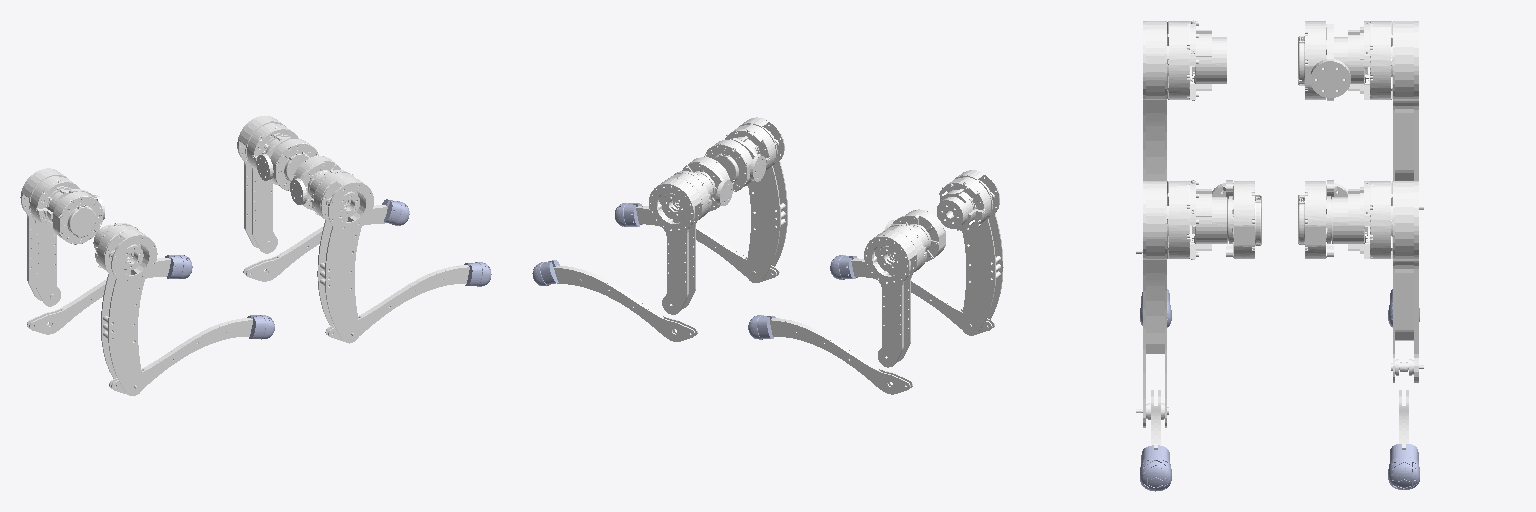
The robot description file, URDF, robot "RCV8":
<?xml version="1.0" encoding="utf-8"?>
<!-- This URDF was automatically created by SolidWorks to URDF Exporter! Originally created by Stephen Brawner (brawner@gmail.com) 
     Commit Version: 1.6.0-4-g7f85cfe  Build Version: 1.6.7995.38578
     For more information, please see http://wiki.ros.org/sw_urdf_exporter -->
<robot
  name="RCV8">
    <mujoco>
    <compiler 
      meshdir="../meshes" 
      balanceinertia="true" 
      discardvisual="false" />
  </mujoco>
  <link
    name="base_link">
    <inertial>
      <origin
        xyz="0.0080583 0.0005398 0.0606645"
        rpy="0 0 0" />
      <mass
        value="6" />
      <inertia
        ixx="0.0352207"
        ixy="-0.0007207"
        ixz="-0.0019191"
        iyy="0.0728560"
        iyz="0.0000191"
        izz="0.0856750" />
    </inertial>
    <visual>
      <origin
        xyz="0 0 0"
        rpy="0 0 0" />
      <geometry>
        <mesh
          filename="..//meshes/base_link.STL" />
      </geometry>
      <material
        name="">
        <color
          rgba="1 1 1 1" />
      </material>
    </visual>
    <collision>
      <origin
        xyz="0 0 0.04290"
        rpy="0 0 0" />
      <geometry>
        <box
          size="0.34 0.20000 0.15980" />
      </geometry>
    </collision>
    
  </link>
  <link
    name="FL">
    <inertial>
      <origin
        xyz="-0.0117255 -0.0121303 -0.0000462"
        rpy="0 0 0" />
      <mass
        value="0.75" />
      <inertia
        ixx="0.0001882"
        ixy="0.0000377"
        ixz="0.0000005"
        iyy="0.0003670"
        iyz="-0.0000002"
        izz="0.0002544" />
    </inertial>
    <visual>
      <origin
        xyz="0 0 0"
        rpy="0 0 0" />
      <geometry>
        <mesh
          filename="..//meshes/FL.STL" />
      </geometry>
      <material
        name="">
        <color
          rgba="1 1 1 1" />
      </material>
    </visual>
  </link>
  <joint
    name="FL_hip_joint"
    type="revolute">
    <origin
      xyz="0.23285 0.0625 0.05425"
      rpy="0 0 0" />
    <parent
      link="base_link" />
    <child
      link="FL" />
    <axis
      xyz="1 0 0" />
    <limit
      lower="-1.05"
      upper="1.05"
      effort="18.0"
      velocity="30" />
  </joint>
  <link
    name="FL_thigh">
    <inertial>
      <origin
        xyz="-0.0009008 -0.0236371 -0.0344781"
        rpy="0 0 0" />
      <mass
        value="0.85" />
      <inertia
        ixx="0.0050481"
        ixy="0.0000052"
        ixz="-0.0003188"
        iyy="0.0048560"
        iyz="0.0007267"
        izz="0.0010600" />
    </inertial>
    <visual>
      <origin
        xyz="0 0 0"
        rpy="0 0 0" />
      <geometry>
        <mesh
          filename="..//meshes/FL_thigh.STL" />
      </geometry>
      <material
        name="">
        <color
          rgba="1 1 1 1" />
      </material>
    </visual>
    <collision>
      <origin
        xyz="-0.003 -0.008 -0.002"
        rpy="1.57079632679 0 0" />
      <geometry>
        <cylinder
          radius="0.0450"
          length="0.05" />
      </geometry>
    </collision>
    <collision>
      <origin
        xyz="-0.0220 0 -0.1400"
        rpy="0 0 0" />
      <geometry>
        <cylinder
          radius="0.0205"
          length="0.1620" />
      </geometry>
    </collision>
  </link>
  <joint
    name="FL_thigh_joint"
    type="revolute">
    <origin
      xyz="0 0.0904 0"
      rpy="0 0 0" />
    <parent
      link="FL" />
    <child
      link="FL_thigh" />
    <axis
      xyz="0 1 0" />
    <limit
      lower="-1.57"
      upper="3.49"
      effort="18.0"
      velocity="30" />
  </joint>
  <link
    name="FL_calf">
    <inertial>
      <origin
        xyz="0.0038942 0.0007975 -0.1721584"
        rpy="0 0 0" />
      <mass
        value="0.1" />
      <inertia
        ixx="0.0017683"
        ixy="0.0000017"
        ixz="-0.0000664"
        iyy="0.0017957"
        iyz="0.0000138"
        izz="0.0000409" />
    </inertial>
    <visual>
      <origin
        xyz="0 0 0"
        rpy="0 0 0" />
      <geometry>
        <mesh
          filename="..//meshes/FL_calf.STL" />
      </geometry>
      <material
        name="">
        <color
          rgba="1 1 1 1" />
      </material>
    </visual>
    <collision>
      <origin
        xyz="0.0155 0 -0.1250"
        rpy="0 0 0" />
      <geometry>
        <cylinder
          radius="0.0125"
          length="0.2500" />
      </geometry>
    </collision>
  </link>
  <joint
    name="FL_calf_joint"
    type="revolute">
    <origin
      xyz="0 0 -0.26"
      rpy="0 0 0" />
    <parent
      link="FL_thigh" />
    <child
      link="FL_calf" />
    <axis
      xyz="0 1 0" />
    <limit
      lower="-2.72"
      upper="-0.84"
      effort="18.0"
      velocity="30" />
  </joint>
  <link
    name="FL_foot">
    <inertial>
      <origin
        xyz="0.0048384 0.0002654 0.010366"
        rpy="0 0 0" />
      <mass
        value="0.05" />
      <inertia
        ixx="0.0000122"
        ixy="0.0000000"
        ixz="-0.0000006"
        iyy="0.0000137"
        iyz="-0.0000001"
        izz="0.0000112" />
    </inertial>
    <visual>
      <origin
        xyz="0 0 0"
        rpy="0 0 0" />
      <geometry>
        <mesh
          filename="..//meshes/FL_foot.STL" />
      </geometry>
      <material
        name="">
        <color
          rgba="0.79216 0.81961 0.93333 1" />
      </material>
    </visual>
    <collision>
      <origin
        xyz="0.0043 0.0002 0.0050"
        rpy="0 0 0" />
      <geometry>
        <sphere
          radius="0.0202" />
      </geometry>
    </collision>
    <collision>
      <origin
        xyz="0.0205 0.0002 0.035"
        rpy="0 0 0" />
      <geometry>
        <box
          size="0.027 0.020 0.015" />
      </geometry>
    </collision>
  </link>
  <joint
    name="FL_foot_joint"
    type="fixed"
    dont_collapse="true">
    <origin
      xyz="-0.014048 0 -0.29437"
      rpy="0 0 0" />
    <parent
      link="FL_calf" />
    <child
      link="FL_foot" />
    <axis
      xyz="0 0 0" />
  </joint>
  <link
    name="FR">
    <inertial>
      <origin
        xyz="-0.0117255 0.0121303 0.0000462"
        rpy="0 0 0" />
      <mass
        value="0.75" />
      <inertia
        ixx="0.0001882"
        ixy="-0.0000377"
        ixz="-0.0000005"
        iyy="0.0003670"
        iyz="-0.0000002"
        izz="0.0002544" />
    </inertial>
    <visual>
      <origin
        xyz="0 0 0"
        rpy="0 0 0" />
      <geometry>
        <mesh
          filename="..//meshes/FR.STL" />
      </geometry>
      <material
        name="">
        <color
          rgba="1 1 1 1" />
      </material>
    </visual>
  </link>
  <joint
    name="FR_hip_joint"
    type="revolute">
    <origin
      xyz="0.23285 -0.0625 0.05425"
      rpy="0 0 0" />
    <parent
      link="base_link" />
    <child
      link="FR" />
    <axis
      xyz="1 0 0" />
    <limit
      lower="-1.05"
      upper="1.05"
      effort="18.0"
      velocity="30" />
  </joint>
  <link
    name="FR_thigh">
    <inertial>
      <origin
        xyz="-0.0009016 0.0236316 -0.0344912"
        rpy="0 0 0" />
      <mass
        value="0.85" />
      <inertia
        ixx="0.0050487"
        ixy="-0.0000052"
        ixz="-0.0003188"
        iyy="0.0048566"
        iyz="-0.0007267"
        izz="0.0010601" />
    </inertial>
    <visual>
      <origin
        xyz="0 0 0"
        rpy="0 0 0" />
      <geometry>
        <mesh
          filename="..//meshes/FR_thigh.STL" />
      </geometry>
      <material
        name="">
        <color
          rgba="1 1 1 1" />
      </material>
    </visual>
    <collision>
      <origin
        xyz="-0.003 0.008 -0.002"
        rpy="1.57079632679 0 0" />
      <geometry>
        <cylinder
          radius="0.0450"
          length="0.05" />
      </geometry>
    </collision>
    <collision>
      <origin
        xyz="-0.0220 0 -0.1400"
        rpy="0 0 0" />
      <geometry>
        <cylinder
          radius="0.0205"
          length="0.1620" />
      </geometry>
    </collision>
  </link>
  <joint
    name="FR_thigh_joint"
    type="revolute">
    <origin
      xyz="0 -0.0904 0"
      rpy="0 0 0" />
    <parent
      link="FR" />
    <child
      link="FR_thigh" />
    <axis
      xyz="0 1 0" />
    <limit
      lower="-1.57"
      upper="3.49"
      effort="18.0"
      velocity="30" />
  </joint>
  <link
    name="FR_calf">
    <inertial>
      <origin
        xyz="0.0038942 0.0007975 -0.1721584"
        rpy="0 0 0" />
      <mass
        value="0.1" />
      <inertia
        ixx="0.0017683"
        ixy="0.0000017"
        ixz="-0.0000664"
        iyy="0.0017957"
        iyz="0.0000138"
        izz="0.0000409" />
    </inertial>
    <visual>
      <origin
        xyz="0 0 0"
        rpy="0 0 0" />
      <geometry>
        <mesh
          filename="..//meshes/FR_calf.STL" />
      </geometry>
      <material
        name="">
        <color
          rgba="1 1 1 1" />
      </material>
    </visual>
    <collision>
      <origin
        xyz="0.0155 0 -0.1250"
        rpy="0 0 0" />
      <geometry>
        <cylinder
          radius="0.0125"
          length="0.2500" />
      </geometry>
    </collision>
  </link>
  <joint
    name="FR_calf_joint"
    type="revolute">
    <origin
      xyz="0 0 -0.26"
      rpy="0 0 0" />
    <parent
      link="FR_thigh" />
    <child
      link="FR_calf" />
    <axis
      xyz="0 1 0" />
    <limit
      lower="-2.72"
      upper="-0.84"
      effort="18.0"
      velocity="30" />
  </joint>
  <link
    name="FR_foot">
    <inertial>
      <origin
        xyz="0.0048382 -0.0002654 0.010367"
        rpy="0 0 0" />
      <mass
        value="0.05" />
      <inertia
        ixx="0.0000122"
        ixy="0.0000000"
        ixz="-0.0000006"
        iyy="0.0000137"
        iyz="0.0000001"
        izz="0.0000112" />
    </inertial>
    <visual>
      <origin
        xyz="0 0 0"
        rpy="0 0 0" />
      <geometry>
        <mesh
          filename="..//meshes/FR_foot.STL" />
      </geometry>
      <material
        name="">
        <color
          rgba="0.79216 0.81961 0.93333 1" />
      </material>
    </visual>
    <collision>
      <origin
        xyz="0.0043 -0.0002 0.0050"
        rpy="0 0 0" />
      <geometry>
        <sphere
          radius="0.0202" />
      </geometry>
    </collision>
    <collision>
      <origin
        xyz="0.0205 -0.0002 0.035"
        rpy="0 0 0" />
      <geometry>
        <box
          size="0.027 0.020 0.015" />
      </geometry>
    </collision>
  </link>
  <joint
    name="FR_foot_joint"
    type="fixed"
    dont_collapse="true">
    <origin
      xyz="-0.014048 0 -0.29437"
      rpy="0 0 0" />
    <parent
      link="FR_calf" />
    <child
      link="FR_foot" />
    <axis
      xyz="0 0 0" />
  </joint>
  <link
    name="RL">
    <inertial>
      <origin
        xyz="0.0117255 -0.0121303 0.0000462"
        rpy="0 0 0" />
      <mass
        value="0.75" />
      <inertia
        ixx="0.0001882"
        ixy="-0.0000377"
        ixz="0.0000005"
        iyy="0.0003670"
        iyz="0.0000002"
        izz="0.0002544" />
    </inertial>
    <visual>
      <origin
        xyz="0 0 0"
        rpy="0 0 0" />
      <geometry>
        <mesh
          filename="..//meshes/RL.STL" />
      </geometry>
      <material
        name="">
        <color
          rgba="1 1 1 1" />
      </material>
    </visual>
  </link>
  <joint
    name="RL_hip_joint"
    type="revolute">
    <origin
      xyz="-0.23285 0.0625 0.05425"
      rpy="0 0 0" />
    <parent
      link="base_link" />
    <child
      link="RL" />
    <axis
      xyz="1 0 0" />
    <limit
      lower="-1.05"
      upper="1.05"
      effort="18.0"
      velocity="30" />
  </joint>
  <link
    name="RL_thigh">
    <inertial>
      <origin
        xyz="-0.0009008 -0.0236371 -0.0344781"
        rpy="0 0 0" />
      <mass
        value="0.85" />
      <inertia
        ixx="0.0050481"
        ixy="0.0000052"
        ixz="-0.0003188"
        iyy="0.0048560"
        iyz="0.0007267"
        izz="0.0010600" />
    </inertial>
    <visual>
      <origin
        xyz="0 0 0"
        rpy="0 0 0" />
      <geometry>
        <mesh
          filename="..//meshes/RL_thigh.STL" />
      </geometry>
      <material
        name="">
        <color
          rgba="1 1 1 1" />
      </material>
    </visual>
    <collision>
      <origin
        xyz="-0.003 -0.008 -0.002"
        rpy="1.57079632679 0 0" />
      <geometry>
        <cylinder
          radius="0.0450"
          length="0.05" />
      </geometry>
    </collision>
    <collision>
      <origin
        xyz="-0.0220 0 -0.1400"
        rpy="0 0 0" />
      <geometry>
        <cylinder
          radius="0.0205"
          length="0.1620" />
      </geometry>
    </collision>
  </link>
  <joint
    name="RL_thigh_joint"
    type="revolute">
    <origin
      xyz="0 0.0904 0"
      rpy="0 0 0" />
    <parent
      link="RL" />
    <child
      link="RL_thigh" />
    <axis
      xyz="0 1 0" />
    <limit
      lower="-0.52"
      upper="4.54"
      effort="18.0"
      velocity="30" />
  </joint>
  <link
    name="RL_calf">
    <inertial>
      <origin
        xyz="0.0038942 0.0007975 -0.1721584"
        rpy="0 0 0" />
      <mass
        value="0.1" />
      <inertia
        ixx="0.0017683"
        ixy="0.0000017"
        ixz="-0.0000664"
        iyy="0.0017957"
        iyz="0.0000138"
        izz="0.0000409" />
    </inertial>
    <visual>
      <origin
        xyz="0 0 0"
        rpy="0 0 0" />
      <geometry>
        <mesh
          filename="..//meshes/RL_calf.STL" />
      </geometry>
      <material
        name="">
        <color
          rgba="1 1 1 1" />
      </material>
    </visual>
    <collision>
      <origin
        xyz="0.0155 0 -0.1250"
        rpy="0 0 0" />
      <geometry>
        <cylinder
          radius="0.0125"
          length="0.2500" />
      </geometry>
    </collision>
  </link>
  <joint
    name="RL_calf_joint"
    type="revolute">
    <origin
      xyz="0 0 -0.26"
      rpy="0 0 0" />
    <parent
      link="RL_thigh" />
    <child
      link="RL_calf" />
    <axis
      xyz="0 1 0" />
    <limit
      lower="-2.72"
      upper="-0.84"
      effort="18.0"
      velocity="30" />
  </joint>
  <link
    name="RL_foot">
    <inertial>
      <origin
        xyz="0.0048384 0.0002654 0.010366"
        rpy="0 0 0" />
      <mass
        value="0.05" />
      <inertia
        ixx="0.0000122"
        ixy="0.0000000"
        ixz="-0.0000006"
        iyy="0.0000137"
        iyz="-0.0000001"
        izz="0.0000112" />
    </inertial>
    <visual>
      <origin
        xyz="0 0 0"
        rpy="0 0 0" />
      <geometry>
        <mesh
          filename="..//meshes/RL_foot.STL" />
      </geometry>
      <material
        name="">
        <color
          rgba="0.79216 0.81961 0.93333 1" />
      </material>
    </visual>
    <collision>
      <origin
        xyz="0.0043 0.0002 0.0050"
        rpy="0 0 0" />
      <geometry>
        <sphere
          radius="0.0206" />
      </geometry>
    </collision>
    <collision>
      <origin
        xyz="0.0205 0.0002 0.035"
        rpy="0 0 0" />
      <geometry>
        <box
          size="0.027 0.020 0.015" />
      </geometry>
    </collision>
  </link>
  <joint
    name="RL_foot_joint"
    type="fixed"
    dont_collapse="true">
    <origin
      xyz="-0.0140482260590471 0 -0.294374371435754"
      rpy="0 0 0" />
    <parent
      link="RL_calf" />
    <child
      link="RL_foot" />
    <axis
      xyz="0 0 0" />
  </joint>
  <link
    name="RR">
    <inertial>
      <origin
        xyz="0.0117255 0.0121303 -0.0000462"
        rpy="0 0 0" />
      <mass
        value="0.75" />
      <inertia
        ixx="0.0001882"
        ixy="0.0000377"
        ixz="-0.0000005"
        iyy="0.0003670"
        iyz="0.0000002"
        izz="0.0002544" />
    </inertial>
    <visual>
      <origin
        xyz="0 0 0"
        rpy="0 0 0" />
      <geometry>
        <mesh
          filename="..//meshes/RR.STL" />
      </geometry>
      <material
        name="">
        <color
          rgba="1 1 1 1" />
      </material>
    </visual>
  </link>
  <joint
    name="RR_hip_joint"
    type="revolute">
    <origin
      xyz="-0.23285 -0.0625 0.05425"
      rpy="0 0 0" />
    <parent
      link="base_link" />
    <child
      link="RR" />
    <axis
      xyz="1 0 0" />
    <limit
      lower="-1.05"
      upper="1.05"
      effort="18.0"
      velocity="30" />
  </joint>
  <link
    name="RR_thigh">
    <inertial>
      <origin
        xyz="-0.0009016 0.0236316 -0.0344912"
        rpy="0 0 0" />
      <mass
        value="0.85" />
      <inertia
        ixx="0.0050487"
        ixy="-0.0000052"
        ixz="-0.0003188"
        iyy="0.0048566"
        iyz="-0.0007267"
        izz="0.0010601" />
    </inertial>
    <visual>
      <origin
        xyz="0 0 0"
        rpy="0 0 0" />
      <geometry>
        <mesh
          filename="..//meshes/RR_thigh.STL" />
      </geometry>
      <material
        name="">
        <color
          rgba="1 1 1 1" />
      </material>
    </visual>
    <collision>
      <origin
        xyz="-0.003 0.008 -0.002"
        rpy="1.57079632679 0 0" />
      <geometry>
        <cylinder
          radius="0.0450"
          length="0.05" />
      </geometry>
    </collision>
    <collision>
      <origin
        xyz="-0.0220 0 -0.1400"
        rpy="0 0 0" />
      <geometry>
        <cylinder
          radius="0.0205"
          length="0.1620" />
      </geometry>
    </collision>
  </link>
  <joint
    name="RR_thigh_joint"
    type="revolute">
    <origin
      xyz="0 -0.0904 0"
      rpy="0 0 0" />
    <parent
      link="RR" />
    <child
      link="RR_thigh" />
    <axis
      xyz="0 1 0" />
    <limit
      lower="-0.52"
      upper="4.54"
      effort="18.0"
      velocity="30" />
  </joint>
  <link
    name="RR_calf">
    <inertial>
      <origin
        xyz="0.0038942 0.0007975 -0.1721584"
        rpy="0 0 0" />
      <mass
        value="0.1" />
      <inertia
        ixx="0.0017683"
        ixy="0.0000017"
        ixz="-0.0000664"
        iyy="0.0017957"
        iyz="0.0000138"
        izz="0.0000409" />
    </inertial>
    <visual>
      <origin
        xyz="0 0 0"
        rpy="0 0 0" />
      <geometry>
        <mesh
          filename="..//meshes/RR_calf.STL" />
      </geometry>
      <material
        name="">
        <color
          rgba="1 1 1 1" />
      </material>
    </visual>
    <collision>
      <origin
        xyz="0.0155 0 -0.1250"
        rpy="0 0 0" />
      <geometry>
        <cylinder
          radius="0.0125"
          length="0.2500" />
      </geometry>
    </collision>
  </link>
  <joint
    name="RR_calf_joint"
    type="revolute">
    <origin
      xyz="0 0 -0.26"
      rpy="0 0 0" />
    <parent
      link="RR_thigh" />
    <child
      link="RR_calf" />
    <axis
      xyz="0 1 0" />
    <limit
      lower="-2.72"
      upper="-0.84"
      effort="18.0"
      velocity="30" />
  </joint>
  <link
    name="RR_foot">
    <inertial>
      <origin
        xyz="0.0048382 -0.00026536 0.010367"
        rpy="0 0 0" />
      <mass
        value="0.05" />
      <inertia
        ixx="0.0000122"
        ixy="0.0000000"
        ixz="-0.0000006"
        iyy="0.0000137"
        iyz="0.0000001"
        izz="0.0000112" />
    </inertial>
    <visual>
      <origin
        xyz="0 0 0"
        rpy="0 0 0" />
      <geometry>
        <mesh
          filename="..//meshes/RR_foot.STL" />
      </geometry>
      <material
        name="">
        <color
          rgba="0.79216 0.81961 0.93333 1" />
      </material>
    </visual>
    <collision>
      <origin
        xyz="0.0043 -0.0002 0.0050"
        rpy="0 0 0" />
      <geometry>
        <sphere
          radius="0.0200" />
      </geometry>
    </collision>
    <collision>
      <origin
        xyz="0.0205 -0.0002 0.035"
        rpy="0 0 0" />
      <geometry>
        <box
          size="0.027 0.020 0.015" />
      </geometry>
    </collision>
  </link>
  <joint
    name="RR_foot_joint"
    type="fixed"
    dont_collapse="true">
    <origin
      xyz="-0.014048 0 -0.29437"
      rpy="0 0 0" />
    <parent
      link="RR_calf" />
    <child
      link="RR_foot" />
    <axis
      xyz="0 0 0" />
  </joint>
</robot>

--- Render facts (derived) ---
Views: 3 orthographic renders of the robot side by side, from view 1: azimuth 30°, elevation 25°; view 2: azimuth 150°, elevation 25°; view 3: azimuth 270°, elevation 25°.
Robot: RCV8 — 17 links, 16 joints (12 revolute, 4 fixed); root link base_link; default pose: joints at zero except 4 at the middle of their limits (FL_calf_joint = -1.78, FR_calf_joint = -1.78, RL_calf_joint = -1.78, RR_calf_joint = -1.78).
Links seen in each view (by area): view 1: FR_thigh, RR_thigh, RL_thigh, FL_thigh, RL, RR_calf, FR_calf, FL, RL_calf, FL_calf, FR, FL_foot; view 2: RR_thigh, FL_thigh, RL_thigh, FR_thigh, RL_calf, FL_calf, FR, RR_calf, FR_calf, FL, RL; view 3: FR_thigh, FL_thigh, RR_thigh, RL_thigh, RL, FR, FL, FL_foot, FR_foot.
Link boxes in pixels (x1=…): FR_thigh: x1=310, y1=170, x2=373, y2=343; RR_thigh: x1=93, y1=223, x2=157, y2=395; RL_thigh: x1=20, y1=168, x2=79, y2=306; FL_thigh: x1=237, y1=116, x2=298, y2=253; RL: x1=52, y1=189, x2=104, y2=244; RR_calf: x1=109, y1=318, x2=252, y2=394; FR_calf: x1=325, y1=265, x2=469, y2=341; FL: x1=256, y1=137, x2=318, y2=190; RL_calf: x1=27, y1=258, x2=170, y2=334; FL_calf: x1=243, y1=205, x2=387, y2=281; FR: x1=290, y1=156, x2=340, y2=210; FL_foot: x1=382, y1=199, x2=409, y2=225; RR_thigh: x1=937, y1=170, x2=1003, y2=335; FL_thigh: x1=649, y1=171, x2=712, y2=314; RL_thigh: x1=864, y1=224, x2=928, y2=367; FR_thigh: x1=725, y1=117, x2=787, y2=282; RL_calf: x1=770, y1=318, x2=912, y2=394; FL_calf: x1=554, y1=265, x2=697, y2=341; FR: x1=704, y1=138, x2=766, y2=191; RR_calf: x1=851, y1=258, x2=994, y2=334; FR_calf: x1=636, y1=206, x2=779, y2=281; FL: x1=682, y1=157, x2=732, y2=211; RL: x1=884, y1=209, x2=945, y2=261; FR_thigh: x1=1136, y1=180, x2=1226, y2=427; FL_thigh: x1=1333, y1=181, x2=1423, y2=382; RR_thigh: x1=1136, y1=20, x2=1226, y2=253; RL_thigh: x1=1334, y1=21, x2=1423, y2=209; RL: x1=1298, y1=21, x2=1350, y2=100; FR: x1=1212, y1=180, x2=1261, y2=258; FL: x1=1298, y1=180, x2=1347, y2=258; FL_foot: x1=1388, y1=444, x2=1419, y2=489; FR_foot: x1=1140, y1=445, x2=1171, y2=491.
Bounding box of the posed robot: 0.8275 × 0.3556 × 0.3321 m (x, y, z).
Meshes: 17 distinct files referenced, 15 mesh visuals loaded (15 binary STL); not drawn: 2 (reference not matched to a file when rendering).
